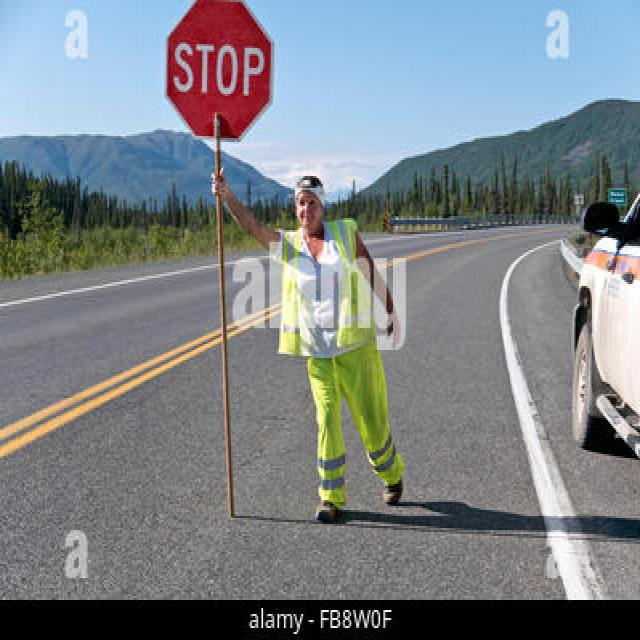Reflective-Jacket: (272, 216, 390, 366)
Safety-Helmet: (284, 162, 334, 210)
